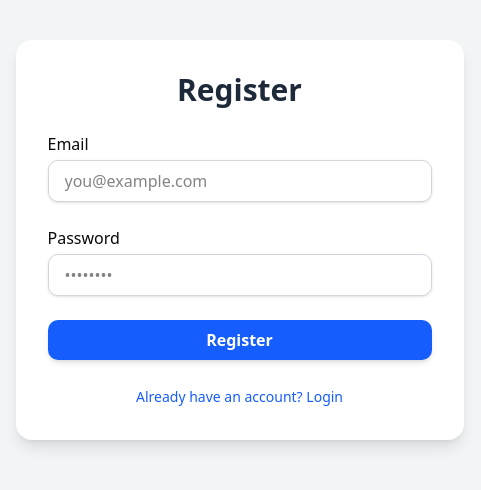
Test: Register - Email and Password Validation (Formik + Yup) › Password Validation › should show error when password missing special character
This screenshot has width=481, height=490.
Type "aaaa@gmail.com" into the field named "email".
click(240, 181); type("aaaa@gmail.com")  # box [48,160,432,202]
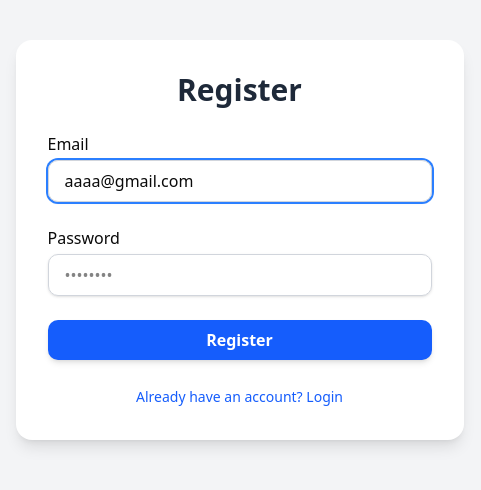
Type "Aa123456789" into the password field named "password".
click(240, 275); type("Aa123456789")  # box [48,254,432,296]
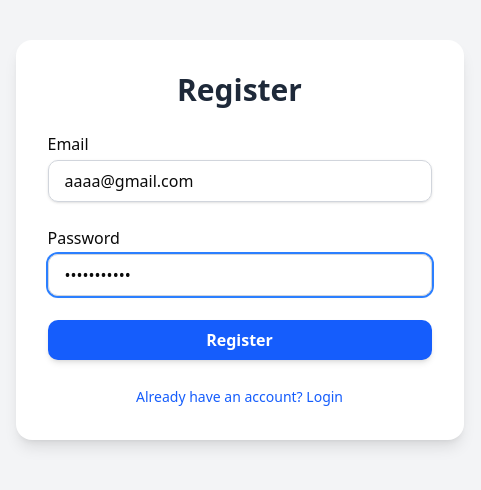
Click the submit button.
click(240, 340)  # box [48,320,432,360]
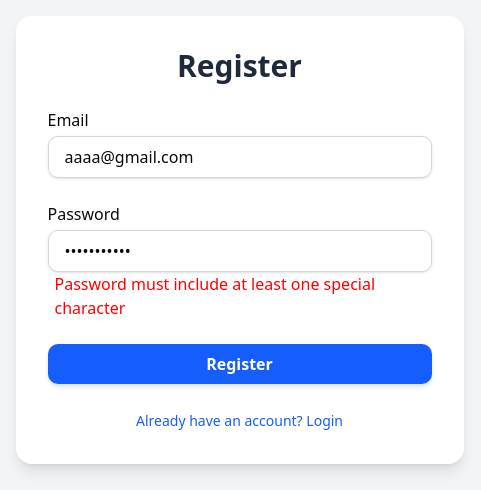
Expected: the heading named "error-password" reads "Password must include at least one special character", [55,273,376,319]
